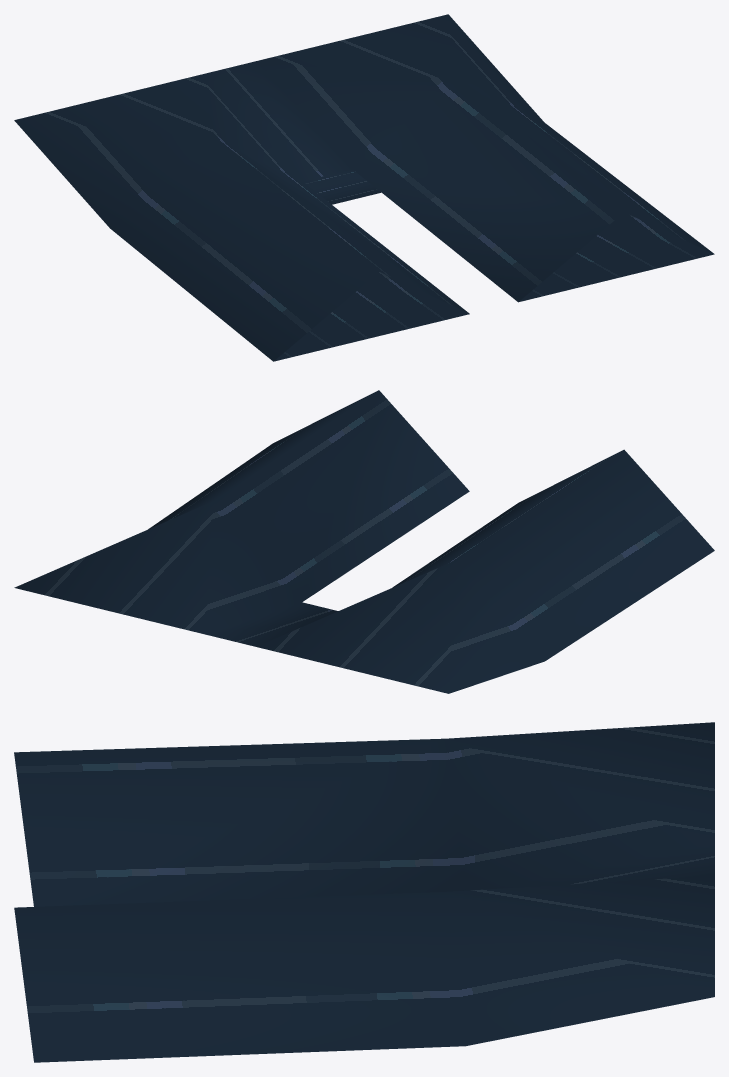
File: 2087pants000_r.gltf
The picture shows the model from 3 angles, top to bottom: view 1: azimuth 30°, elevation 25°; view 2: azimuth 150°, elevation 25°; view 3: azimuth 270°, elevation 25°; orthographic projection. The views are drawn at different scales.
Parts seen in each view (by area): view 1: 2087pants000_r; view 2: 2087pants000_r; view 3: 2087pants000_r.
Part boxes in pixels (bbox=[...]): 2087pants000_r: bbox=[14, 14, 714, 361]; 2087pants000_r: bbox=[14, 390, 714, 693]; 2087pants000_r: bbox=[14, 722, 714, 1062].
Bounding box in the file's own units: 0.7793 × 0.1667 × 0.8264.
Materials: 1 (1 with a texture image).
